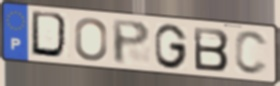B: (191, 25, 231, 73)
C: (233, 29, 270, 78)
D: (30, 9, 72, 62)
G: (153, 23, 190, 71)
O: (73, 16, 109, 63)
P: (111, 18, 153, 67)
